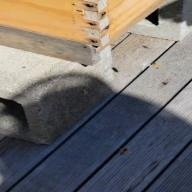Bee: (147, 61, 169, 73)
